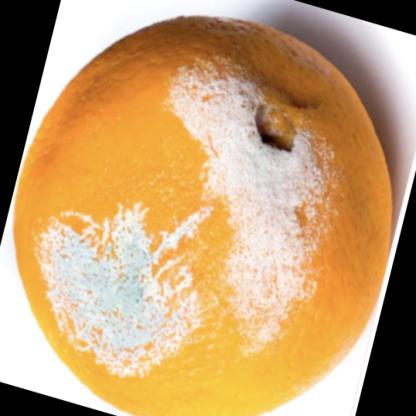rotten: (17, 15, 395, 416)
